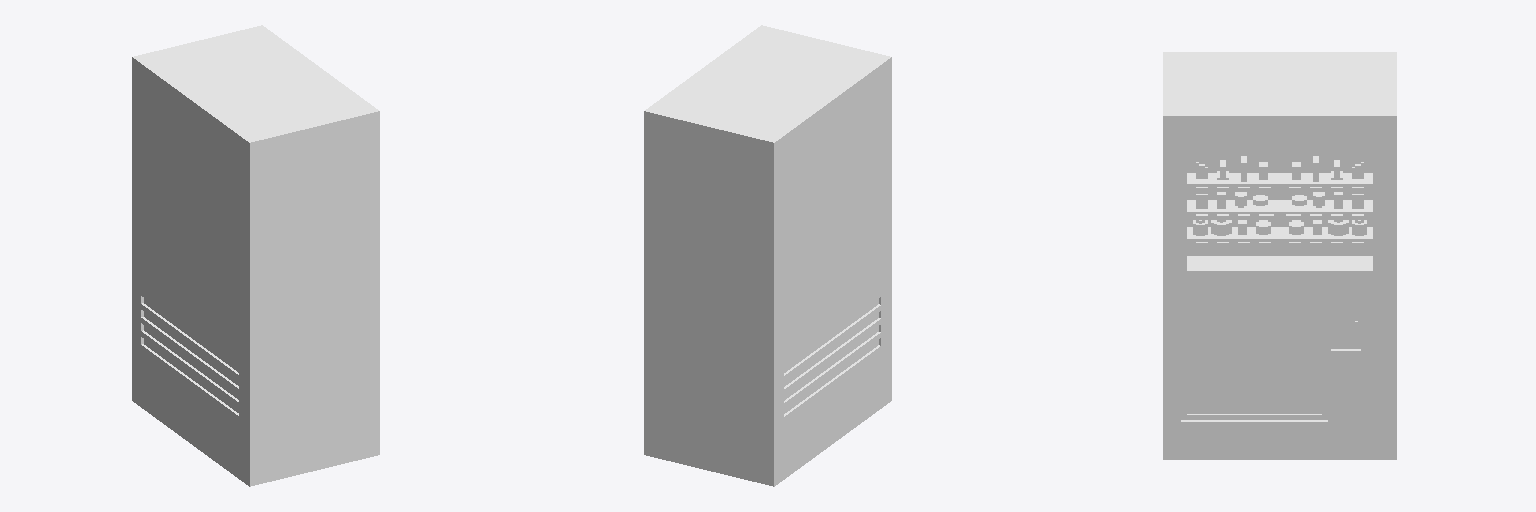
Rendered from VendingMachine2.obj.
3 views of the same model, side by side, from view 1: azimuth 30°, elevation 25°; view 2: azimuth 150°, elevation 25°; view 3: azimuth 270°, elevation 25° (orthographic).
Parts seen in each view (by area): view 1: VendingMachine2; view 2: VendingMachine2; view 3: VendingMachine2.
Part boxes in pixels (x1,y1,x2,y2): VendingMachine2: (132,25,379,486); VendingMachine2: (644,25,891,486); VendingMachine2: (1163,52,1396,459).
Size of the model in its own units: 50 by 126 by 78.